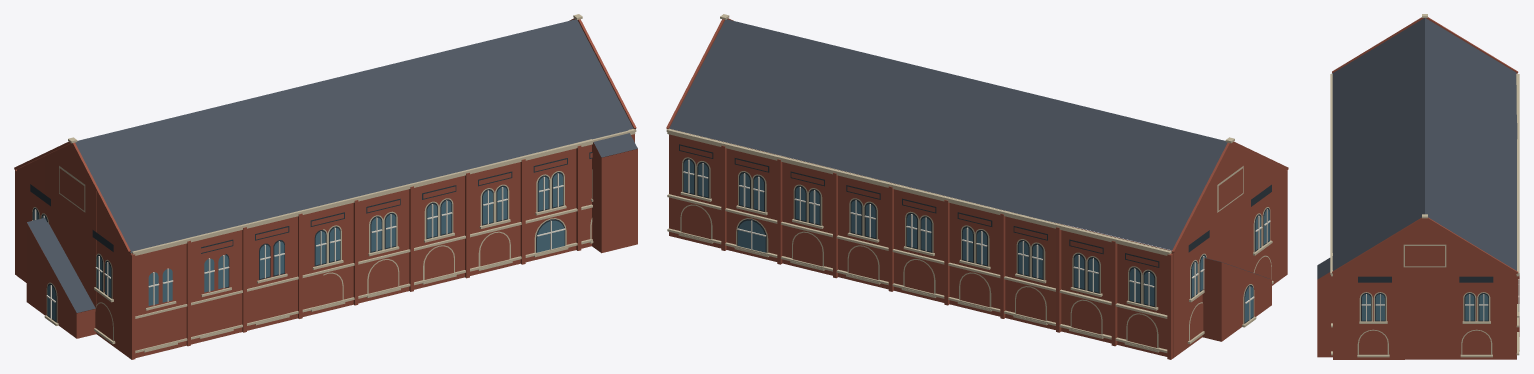
The model's file is de-wester.glb.
3 views of the same model, side by side, from view 1: azimuth 30°, elevation 25°; view 2: azimuth 150°, elevation 25°; view 3: azimuth 270°, elevation 25° (orthographic). The views are drawn at different scales.
Visible parts, largest first — view 1: de-wester; view 2: de-wester; view 3: de-wester.
Part boxes in pixels (x1,y1,x2,y2): de-wester: (14,14,637,359); de-wester: (666,14,1288,359); de-wester: (1317,14,1519,359).
Size of the model in its own units: 48.49 by 15.59 by 19.8.
